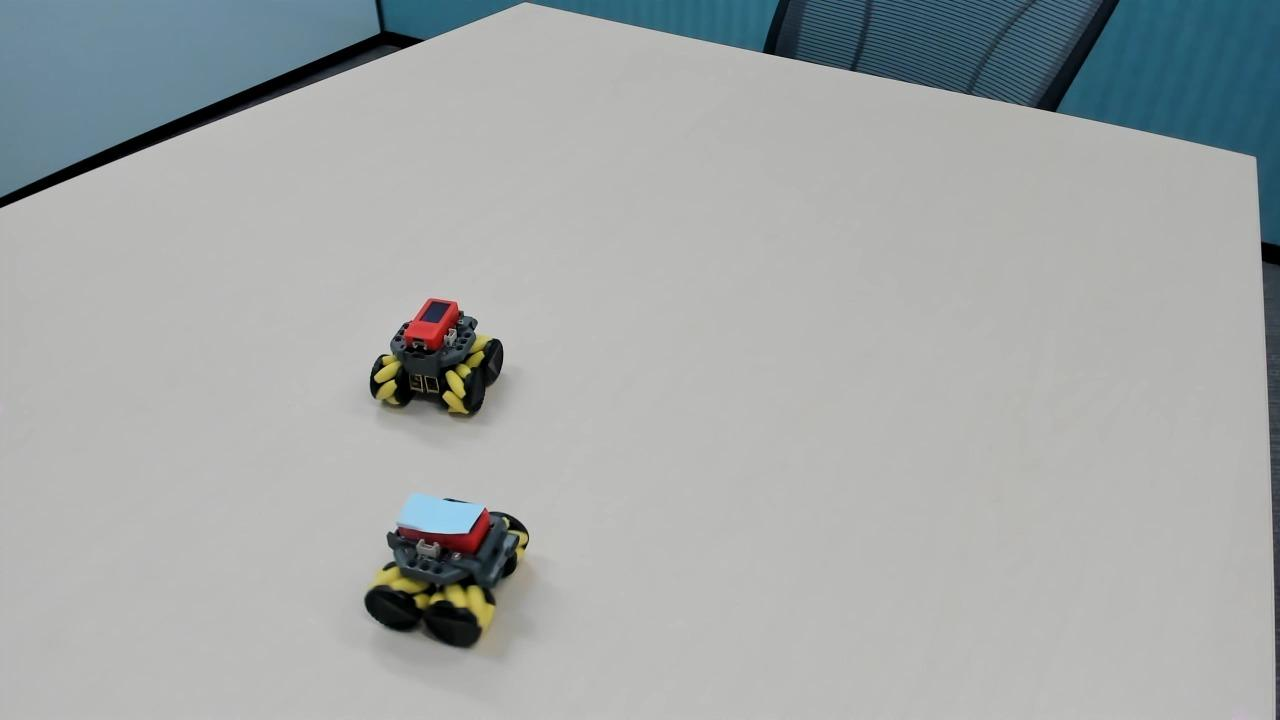B-Robot: (358, 479, 554, 660)
R-Robot: (360, 279, 508, 438)
